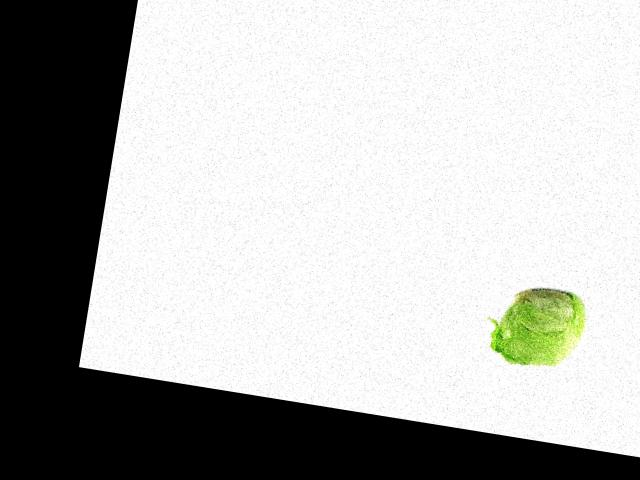lettuce: (490, 278, 593, 378)
